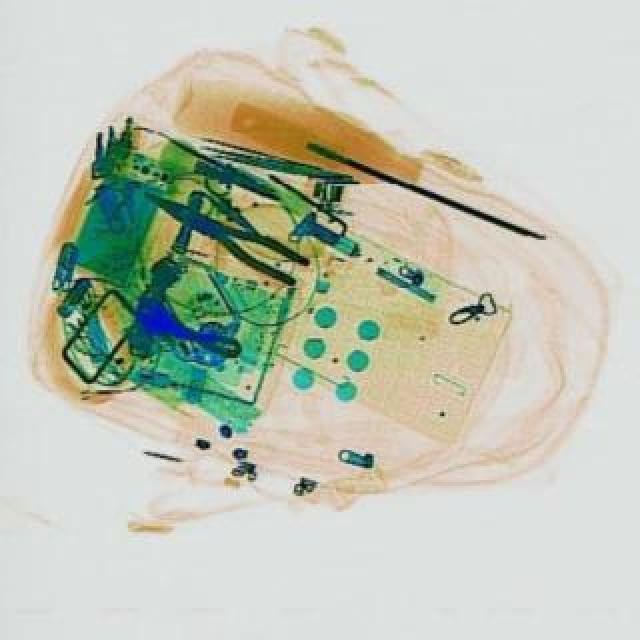wrench: (136, 178, 310, 290)
